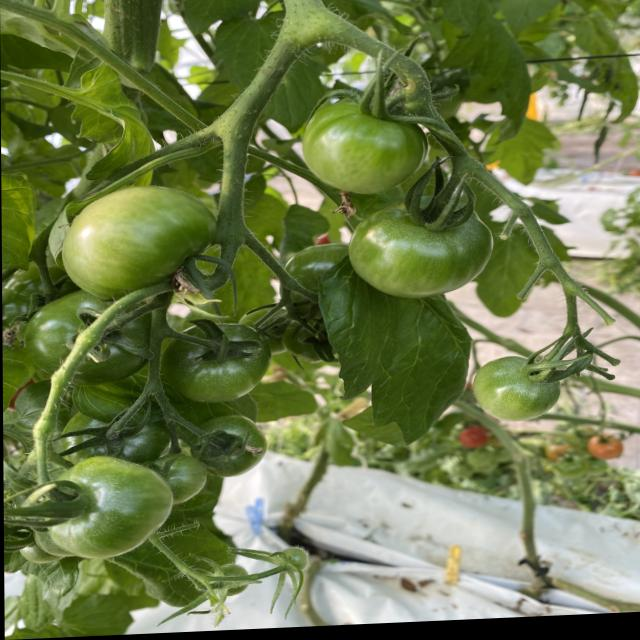yesil: (29, 175, 270, 564), (259, 84, 510, 322)
